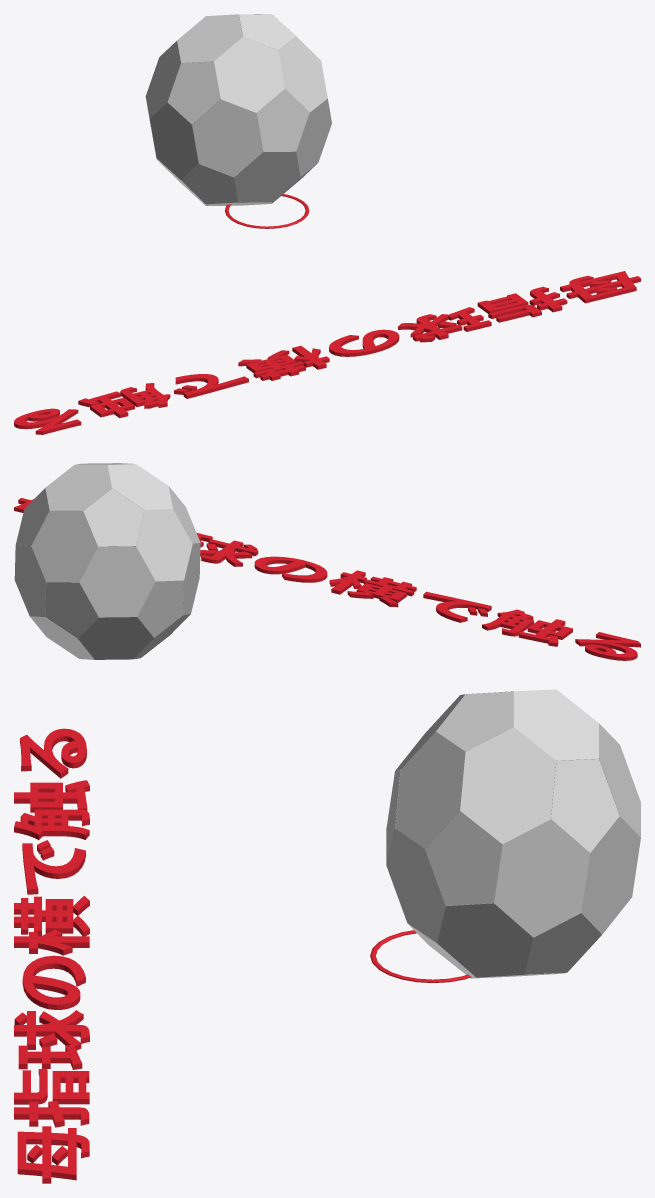
The model's file is tinker.obj.
3 views of the same model, one above another, from view 1: azimuth 30°, elevation 25°; view 2: azimuth 150°, elevation 25°; view 3: azimuth 270°, elevation 25° (orthographic). The views are drawn at different scales.
Parts seen in each view (by area): view 1: group_0_16448250, group_0_15277357; view 2: group_0_16448250, group_0_15277357; view 3: group_0_16448250, group_0_15277357.
Part boxes in pixels (<box>): group_0_16448250: <box>145,14,331,205</box>; group_0_15277357: <box>14,194,640,434</box>; group_0_16448250: <box>14,463,200,659</box>; group_0_15277357: <box>14,498,640,660</box>; group_0_16448250: <box>386,689,640,978</box>; group_0_15277357: <box>14,728,471,1183</box>.
Size of the model in its own units: 184 by 60 by 108.
